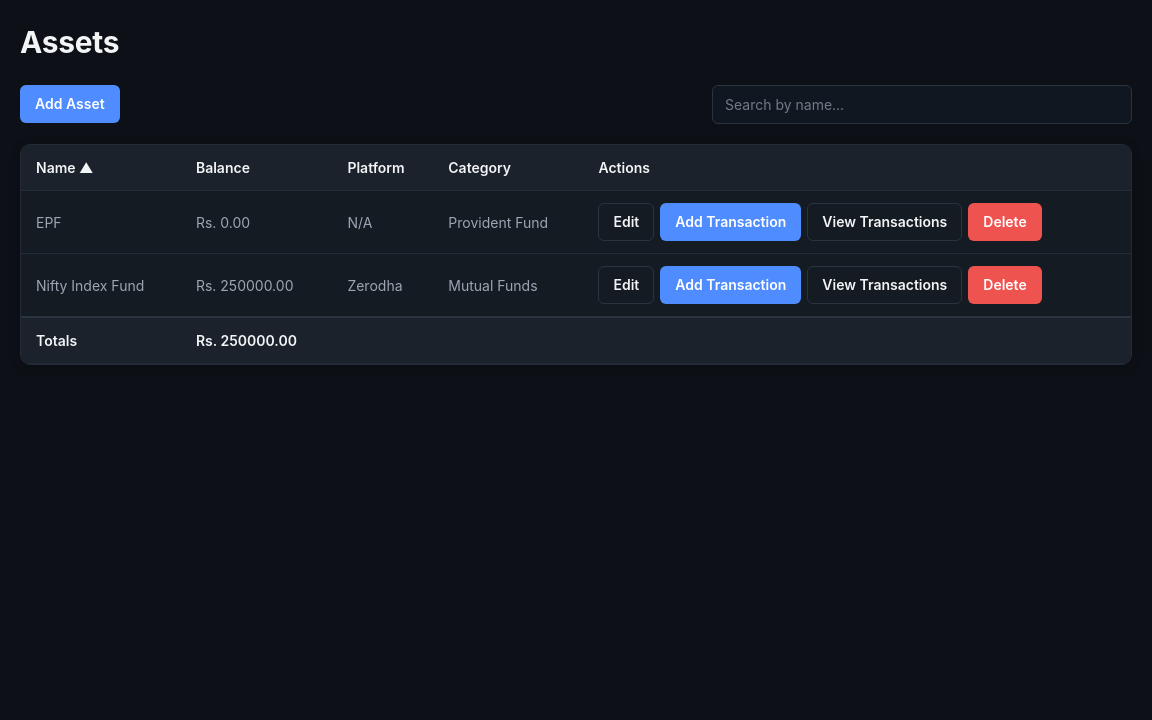
Test: Assets page › creating and editing assets › shows the backend error message when create fails
The width and height of the screenshot is (1152, 720).
Expected: the heading "Assets" is shown, [20,24,119,60]
Expected: the cell "Nifty Index Fund" is shown, [21,254,181,317]
Click the button "Add Asset" at (70, 104), box [20,85,120,123]
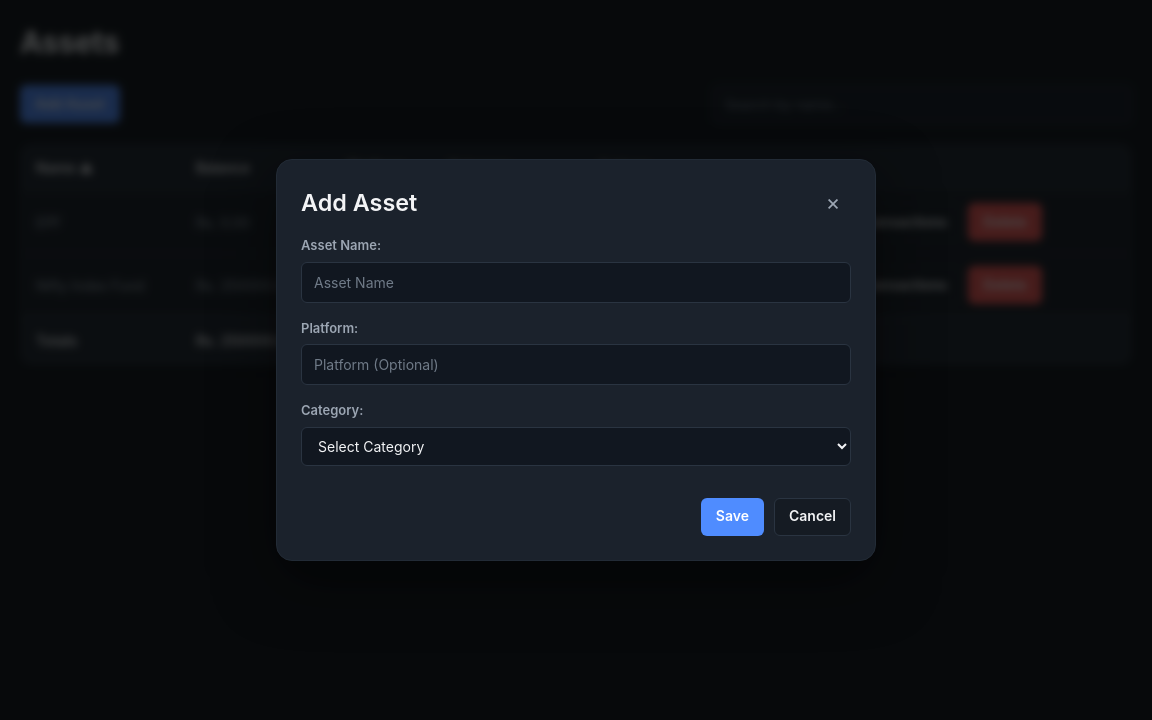
Type "EPF" into the field labelled "Asset Name:" at (576, 282), box [301,262,851,303]
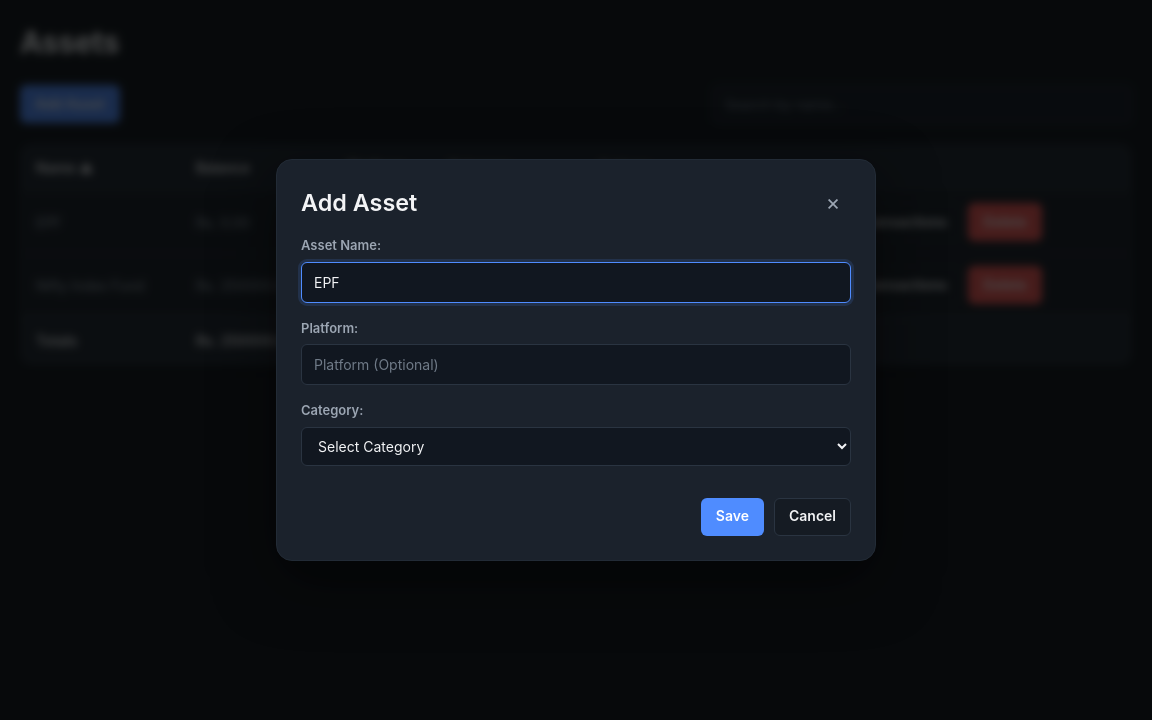
Select "Other" in the dropdown labelled "Category:" at (576, 446), box [301,427,851,466]
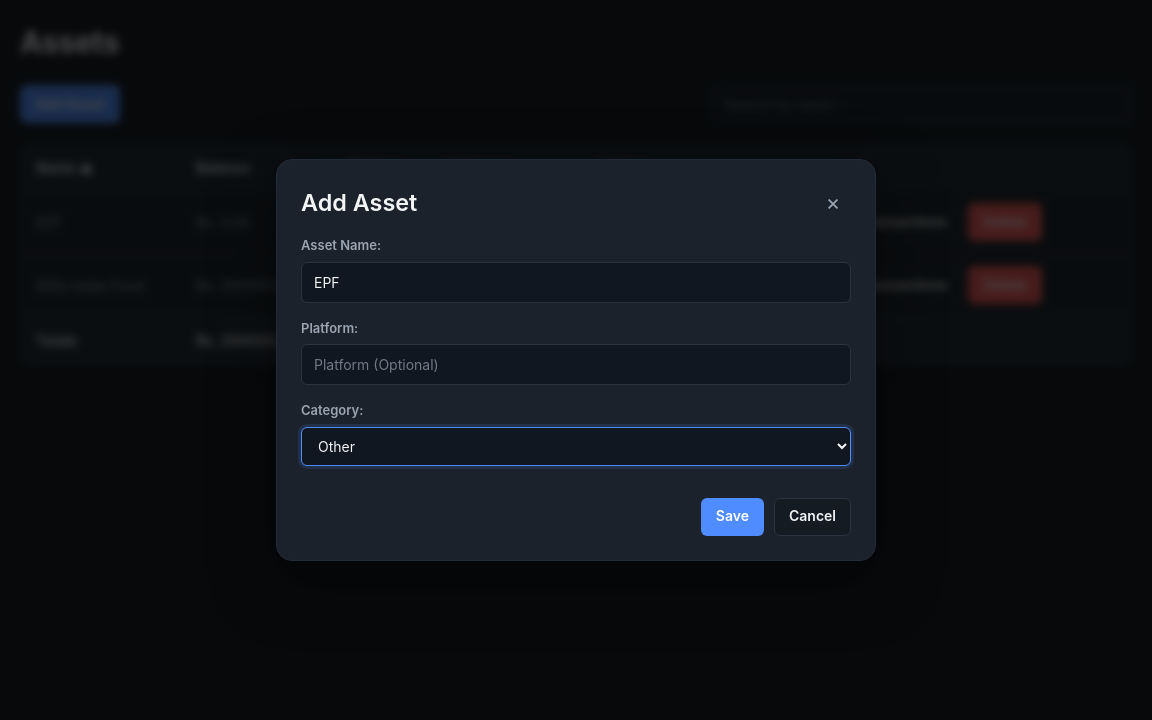
Click the button "Save" at (732, 517), box [701,498,764,536]
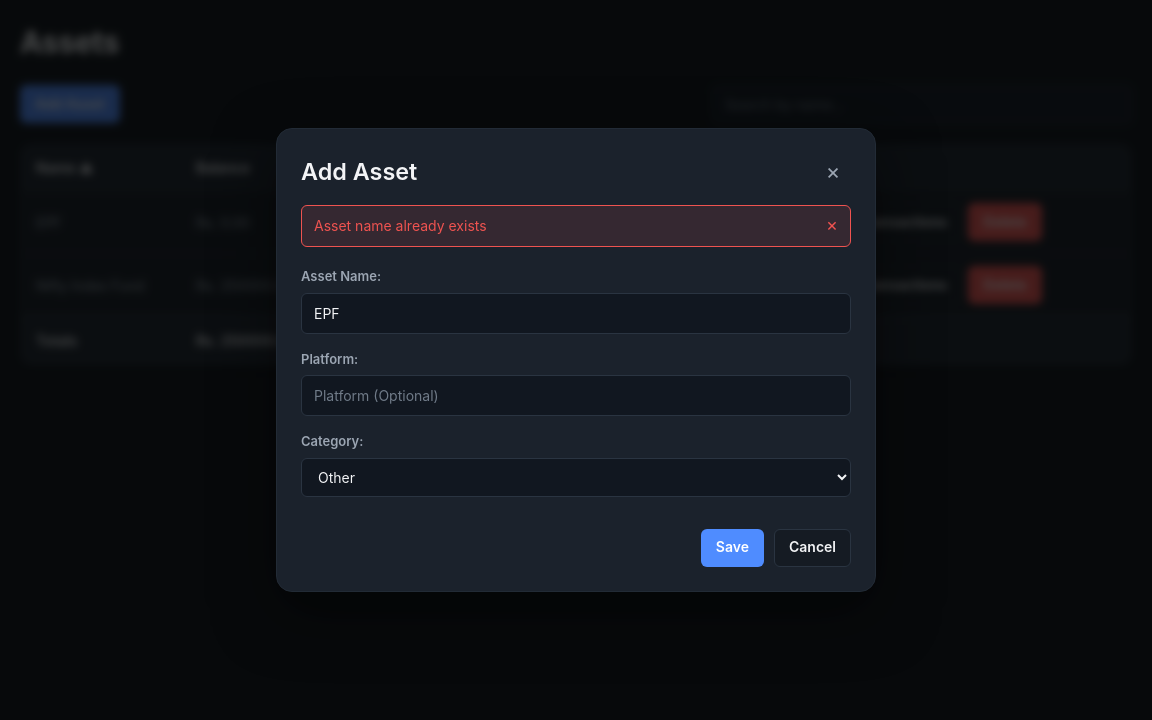
Result: the message shows "Asset name already exists" at [314,218,487,234]
